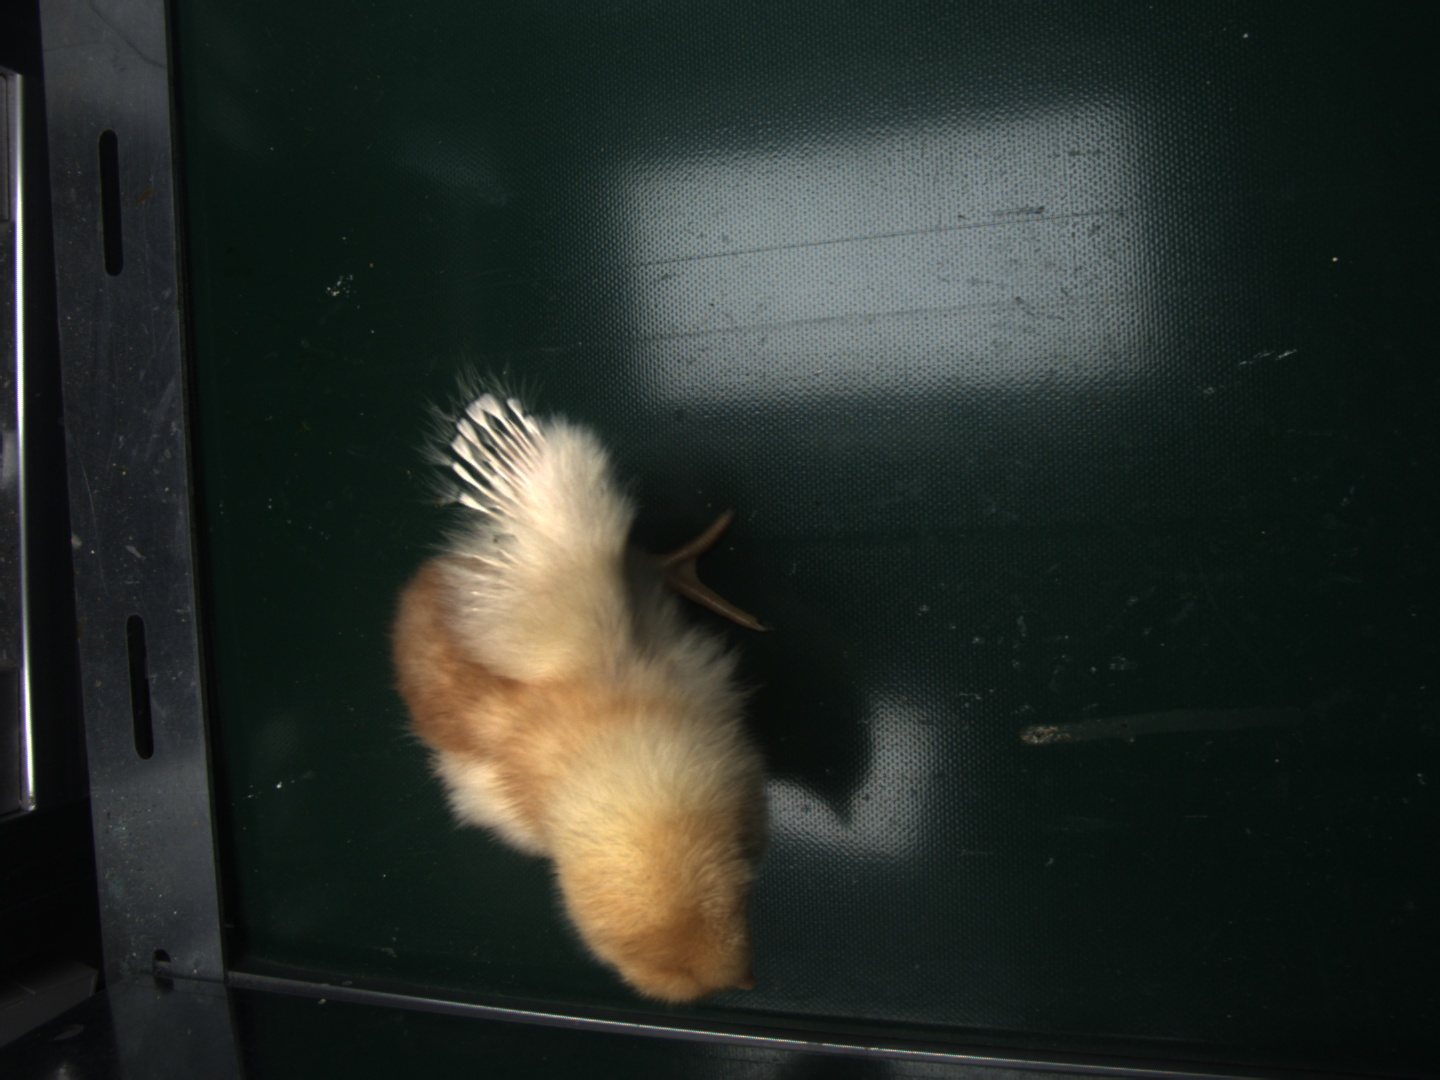female: (447, 389, 549, 525)
